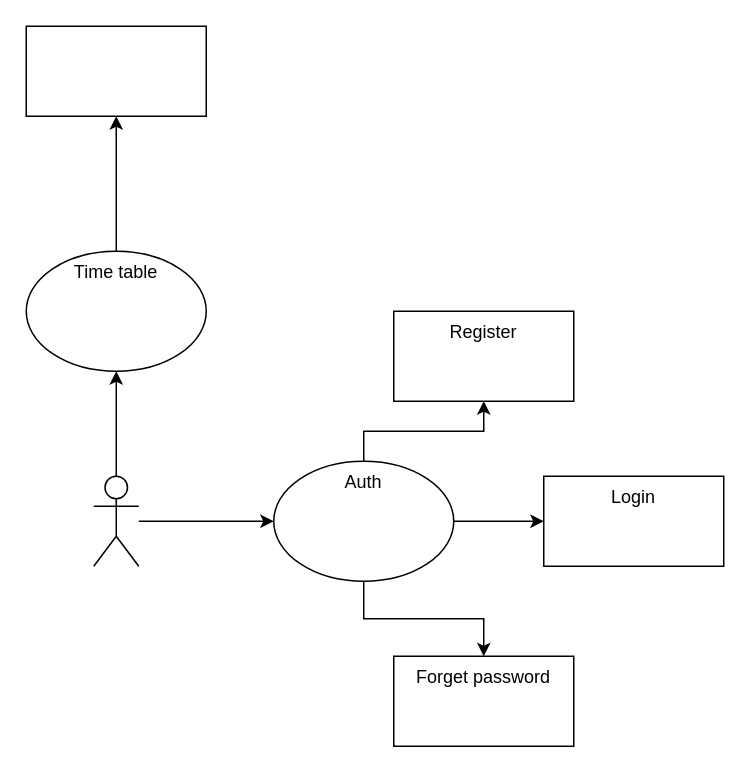
Some shapes in this 750 by 773 pixel diagram are drawn without their labels. The shapes that lost their labels are listed below. From the top down, each one's box as (x1, y1, x2, y2) in pixels, then its label:
(25, 25, 206, 116): Edit
(92, 475, 139, 566): Actor
